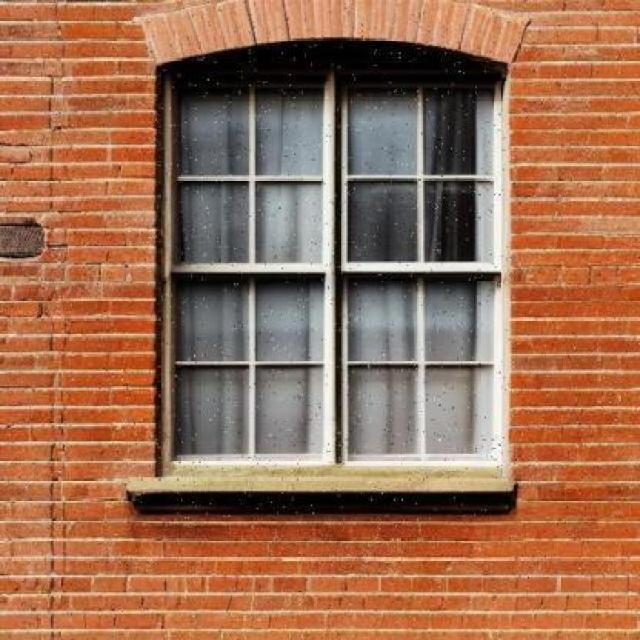window: (153, 63, 504, 475)
